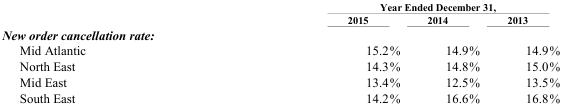table: (1, 0, 559, 104)
table column: (1, 0, 215, 104), (215, 0, 412, 104), (412, 0, 492, 104), (492, 0, 559, 104)
table column header: (1, 0, 559, 26)
table projected row header: (1, 26, 559, 42)
table row: (1, 26, 559, 42), (1, 42, 559, 58), (1, 73, 559, 89), (1, 58, 559, 73), (1, 89, 559, 104), (1, 0, 559, 13), (1, 13, 559, 26)
table spanning cell: (215, 0, 559, 13)
